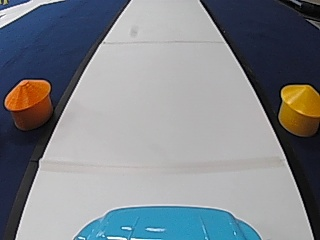granary: (3, 76, 54, 130), (276, 82, 319, 136)
